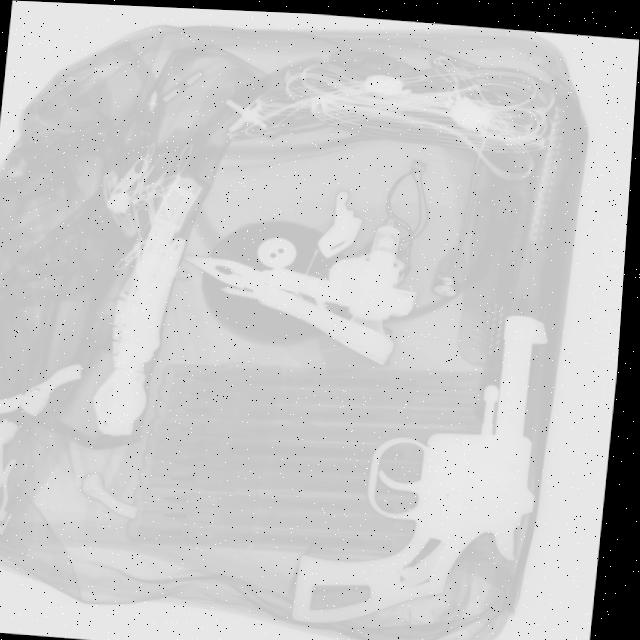pistol: (292, 292, 564, 637)
